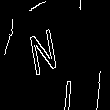N_S: (38, 25, 72, 85)
